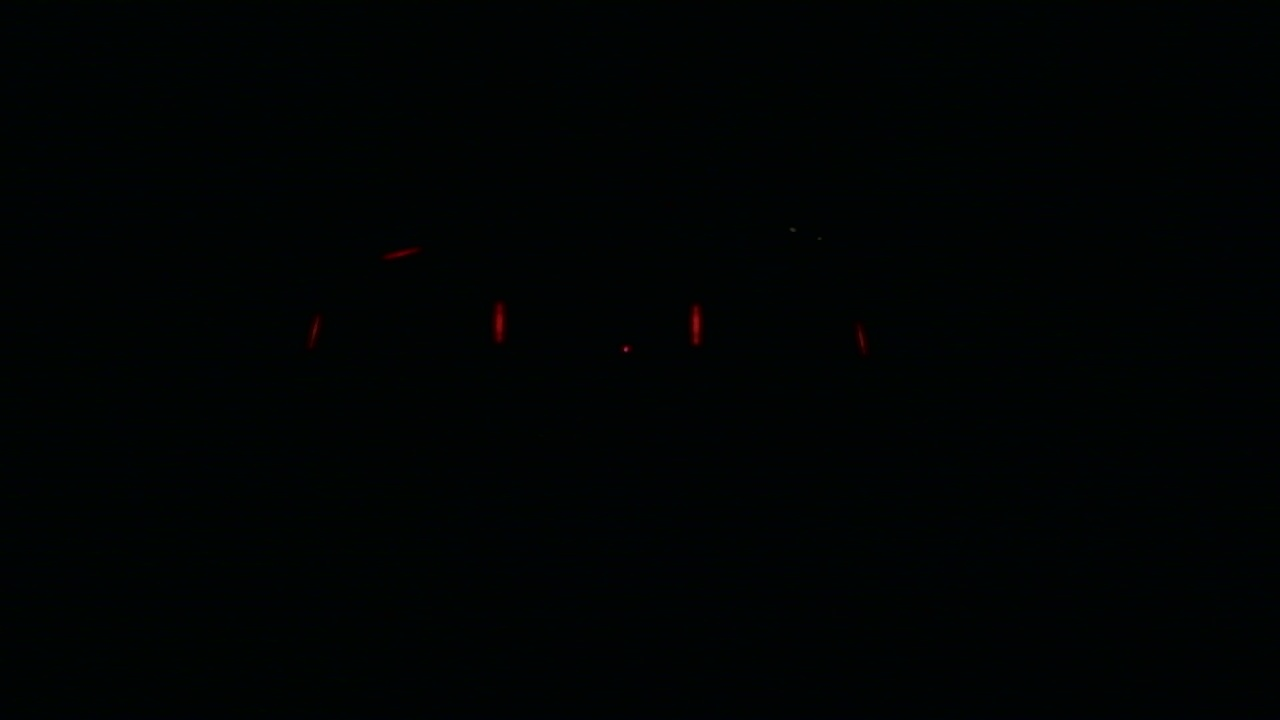lamp: (691, 297, 704, 344), (491, 298, 503, 344)
pair2: (492, 298, 703, 346)
